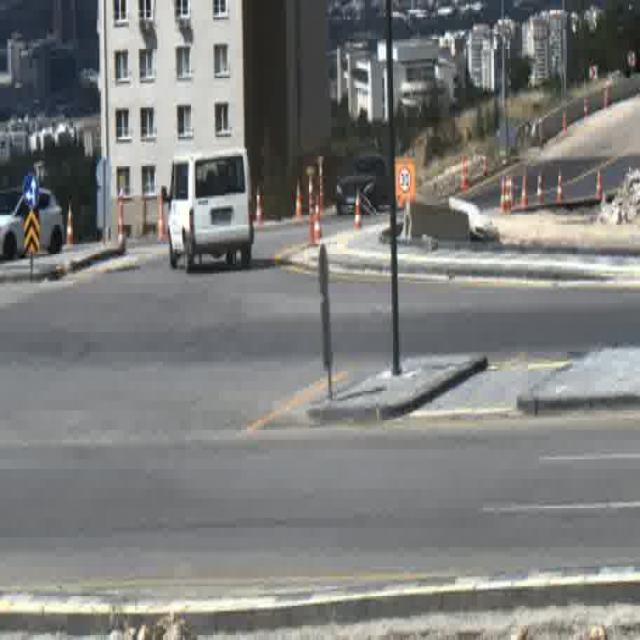Car: (168, 148, 254, 270), (0, 185, 62, 257), (336, 155, 390, 215)
